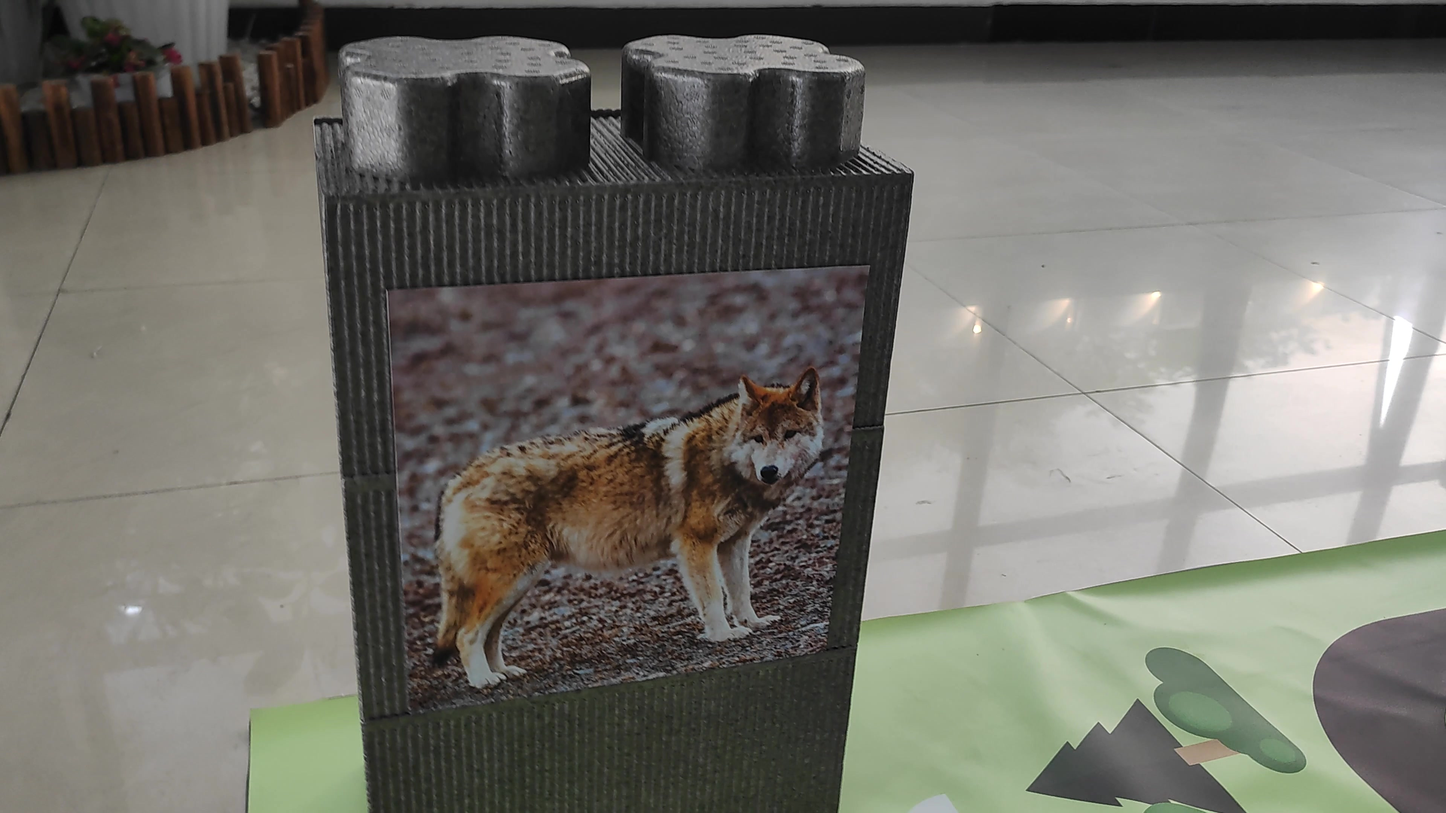wolf: (403, 334, 828, 677)
